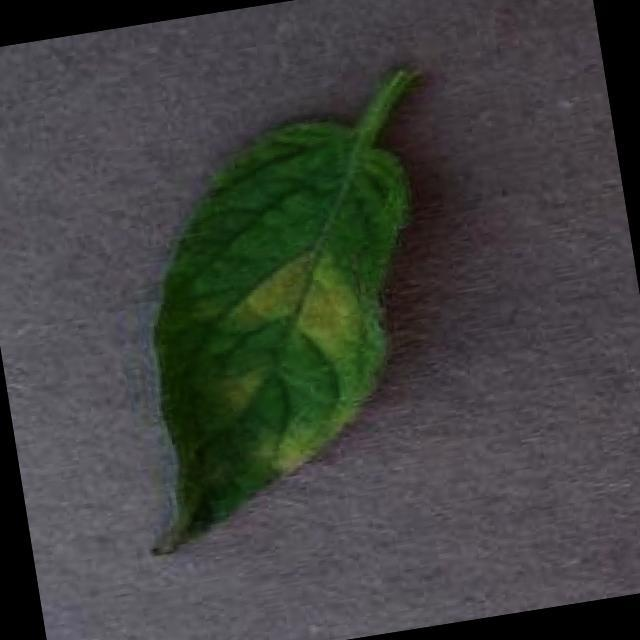Tomato mold leaf: (84, 104, 461, 562)
